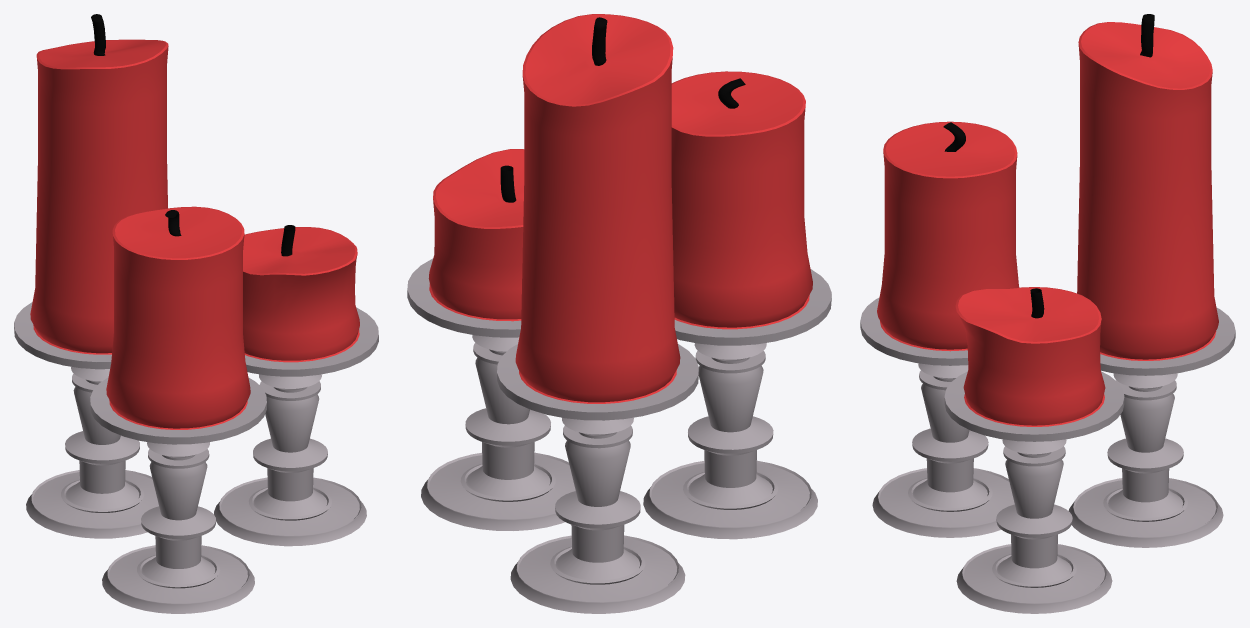
Rendered from CandlesFat.fbx.
3 renders of one model, left to right at view 1: azimuth 30°, elevation 25°; view 2: azimuth 150°, elevation 25°; view 3: azimuth 270°, elevation 25°, orthographic. The views are drawn at different scales.
Parts seen in each view (by area): view 1: Candle.001, Candle, Candle.002; view 2: Candle.001, Candle, Candle.002; view 3: Candle.001, Candle, Candle.002.
Boxes of the visible parts, bbox=[...] form: Candle.001: bbox=[14, 14, 168, 538]; Candle: bbox=[90, 206, 266, 613]; Candle.002: bbox=[214, 225, 378, 546]; Candle.001: bbox=[497, 14, 698, 613]; Candle: bbox=[643, 71, 831, 539]; Candle.002: bbox=[407, 149, 575, 530]; Candle.001: bbox=[1068, 14, 1235, 547]; Candle: bbox=[860, 121, 1019, 537]; Candle.002: bbox=[944, 287, 1124, 613].
Bounding box in the file's own units: 27.34 × 41.75 × 28.51.
